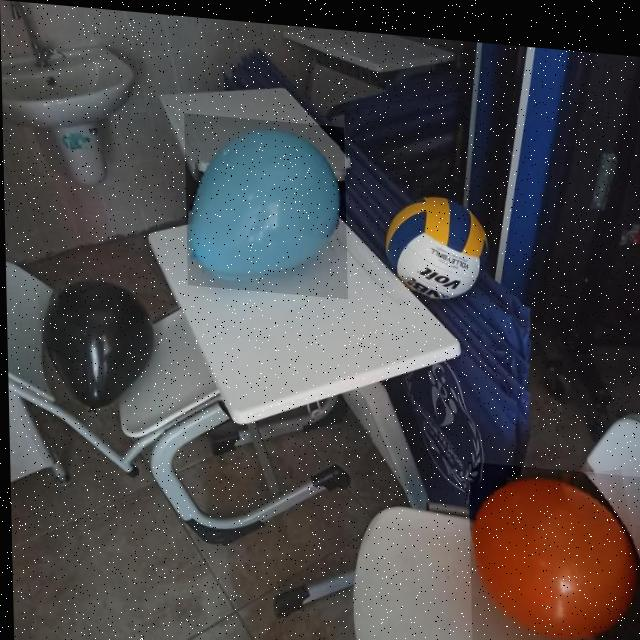balloon: (467, 453, 640, 640), (184, 110, 347, 293)
